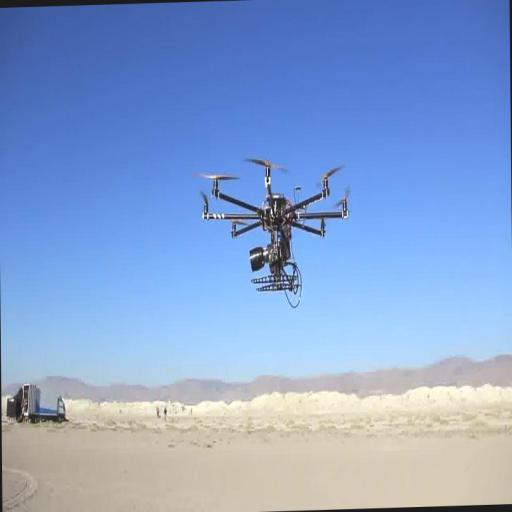drone: (193, 149, 354, 302)
